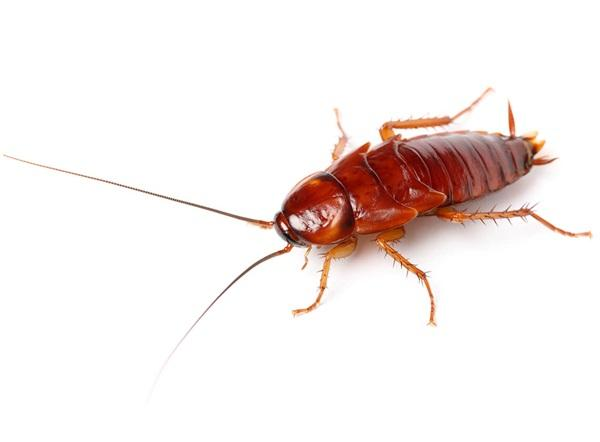cockroach: (268, 102, 546, 282)
